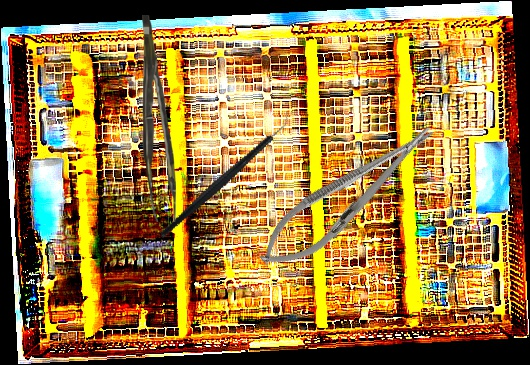Chopper: (135, 108, 315, 240)
Needle Holder: (247, 110, 448, 283)
Tissue Forceps: (142, 15, 176, 222)
